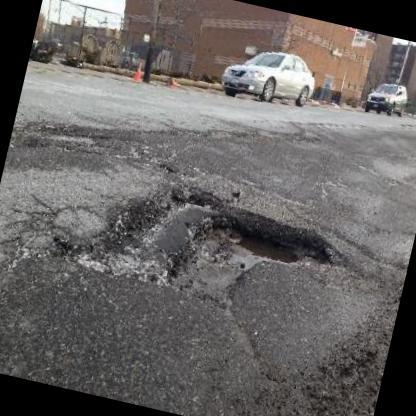pothole: (75, 164, 341, 324), (38, 119, 110, 162)
